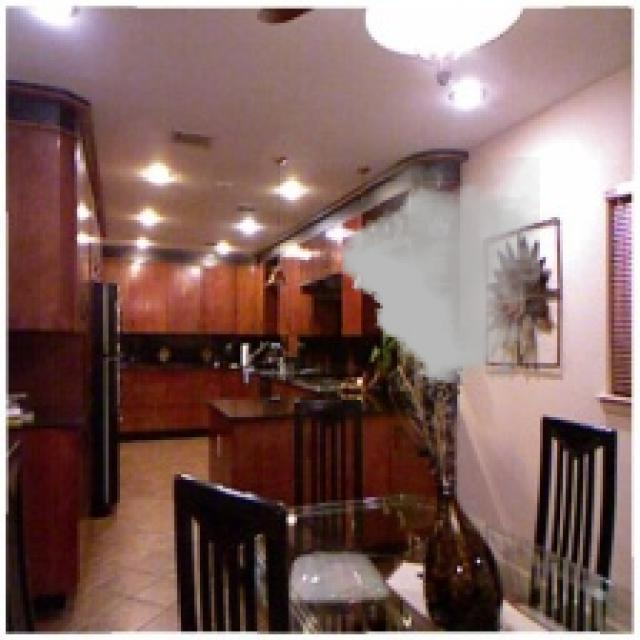Smoke: (340, 157, 540, 389)
